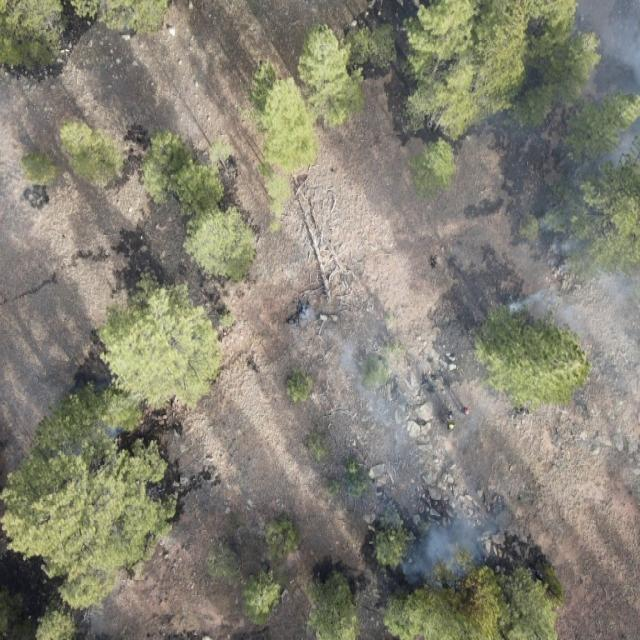smoke: (276, 292, 504, 589), (502, 1, 640, 332), (100, 420, 132, 460)
